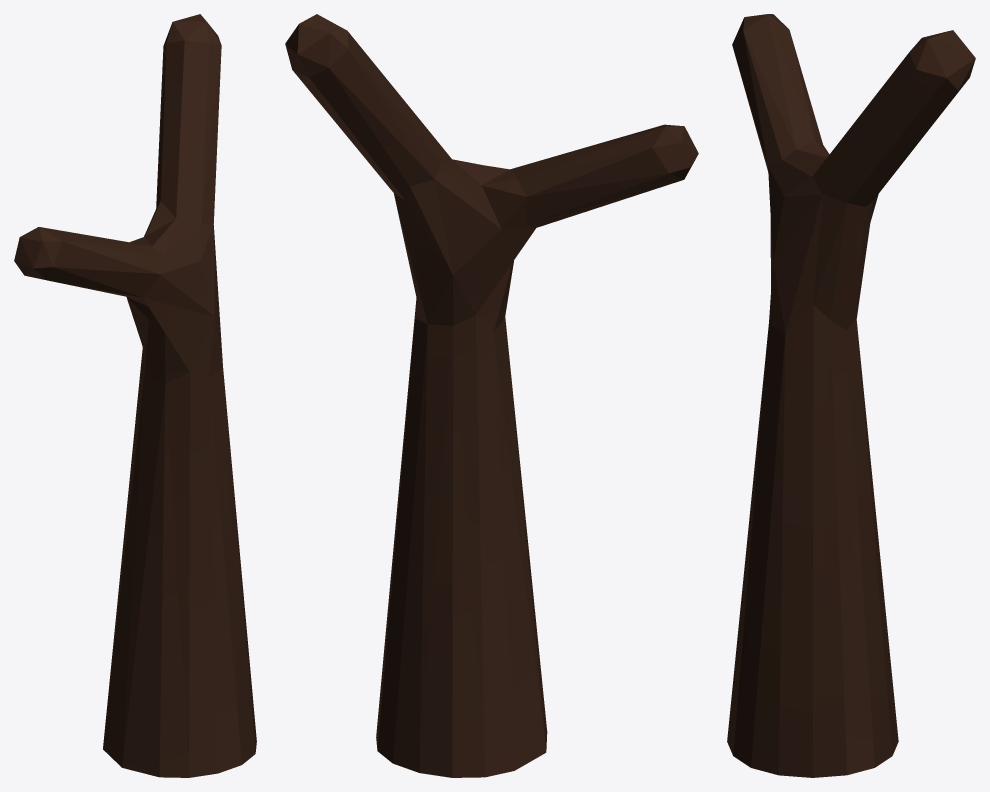
File: 1Stad.fbx
The picture shows the model from 3 angles, left to right: view 1: azimuth 30°, elevation 25°; view 2: azimuth 150°, elevation 25°; view 3: azimuth 270°, elevation 25°; orthographic projection. The views are drawn at different scales.
Parts seen in each view (by area): view 1: Cube.027; view 2: Cube.027; view 3: Cube.027.
Part boxes in pixels (x1,y1,x2,y2): Cube.027: [14, 14, 256, 777]; Cube.027: [285, 14, 698, 777]; Cube.027: [727, 14, 975, 777].
Bounding box in the file's own units: 11.59 × 26.14 × 7.91.
